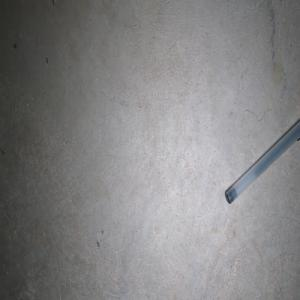Pen: (225, 120, 300, 204)
